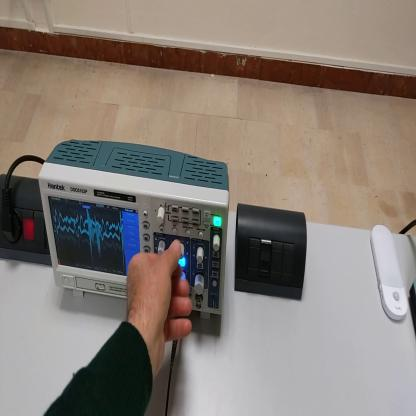hand: (126, 241, 191, 372)
oscilloscope: (38, 139, 229, 323)
socket: (2, 173, 52, 266)
welder station: (409, 277, 416, 331)
